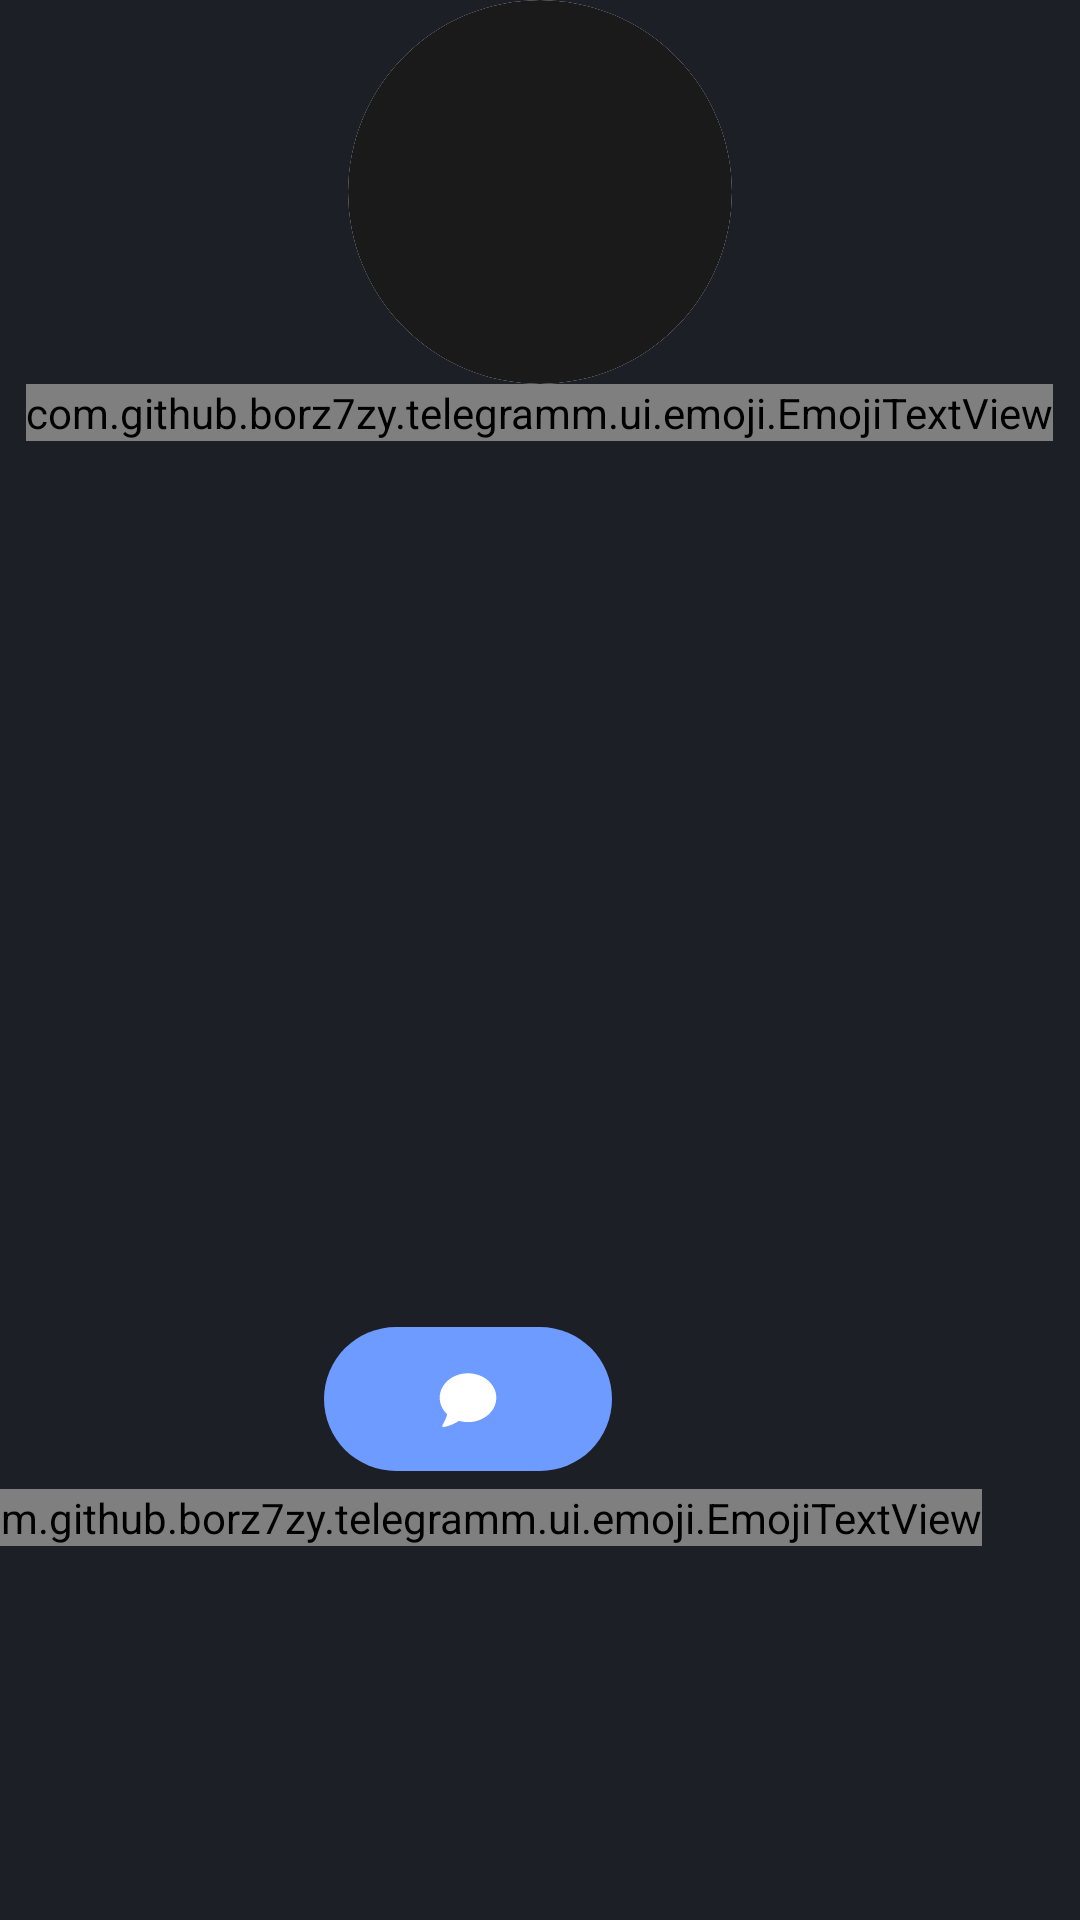

Point at icon controls on the screen. Image size 1080w x 1920h, points as (x=x, y=y).
message: (x=468, y=1399)
